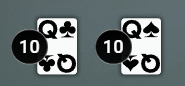q: (36, 18, 60, 42), (121, 18, 144, 40)
